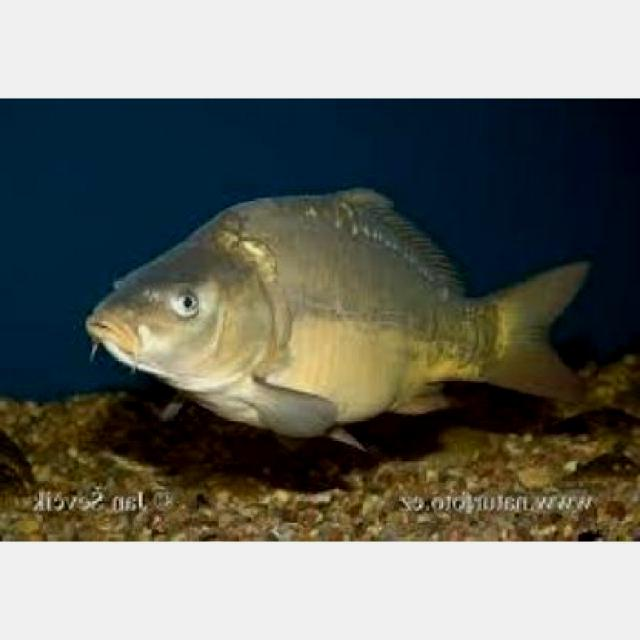ikan-mas: (102, 187, 593, 441)
